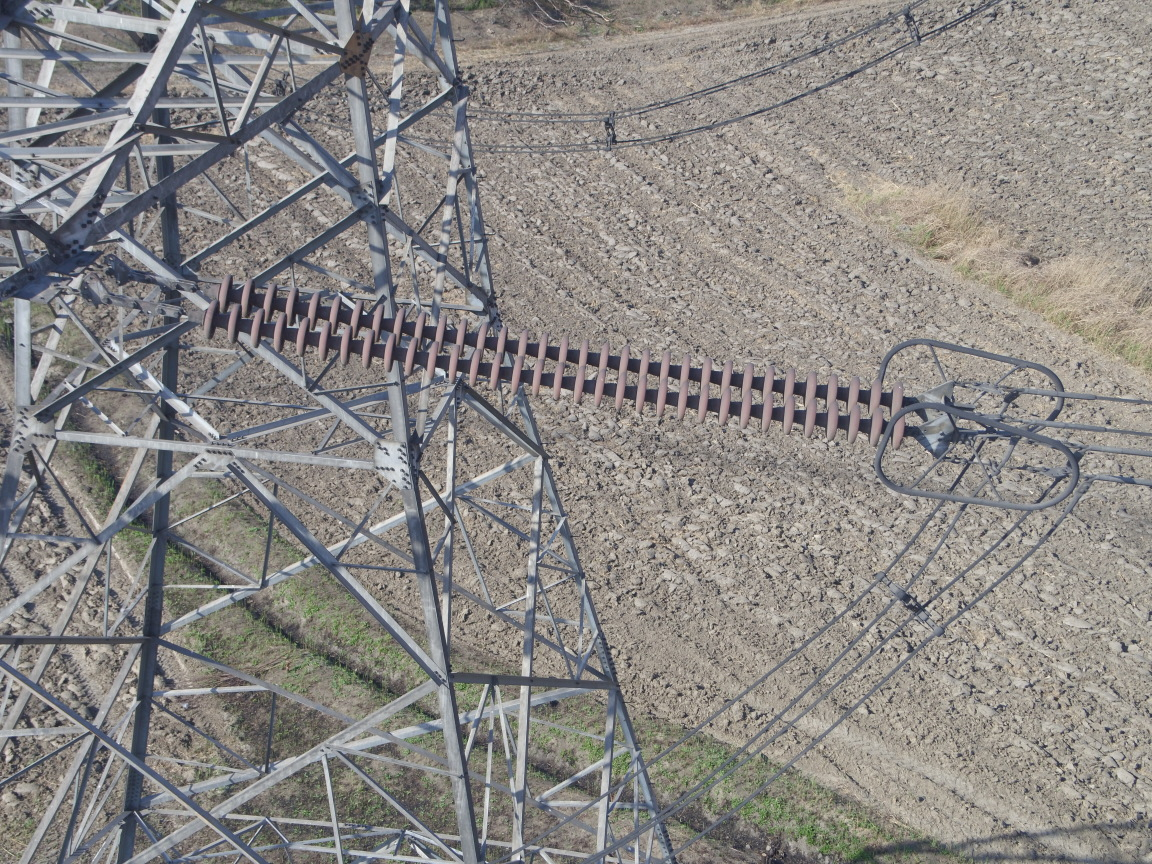insulator: (160, 270, 926, 453)
